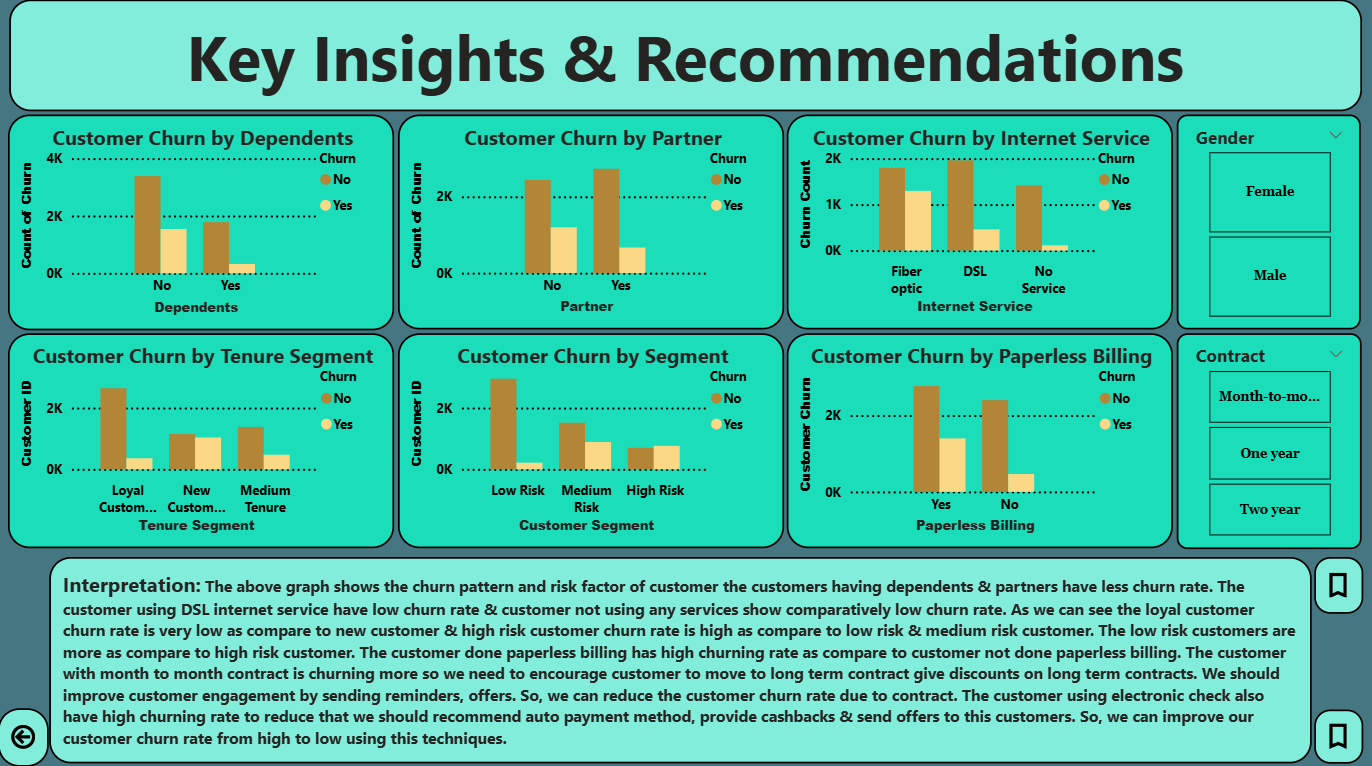

This screenshot's page, from the dashboard's own definition file:
{"tool":"powerbi","page":{"name":"Summary","canvas":[1280,720],"ordinal":2},"visuals":[{"type":"clusteredColumnChart","title":"Customer Churn by Dependents","fields":{"Category":["WA_Fn-UseC_-Telco-Customer-Churn.Dependents"],"Y":["CountNonNull(WA_Fn-UseC_-Telco-Customer-Churn.Churn)"],"Series":["WA_Fn-UseC_-Telco-Customer-Churn.Churn"]},"box":[9.6,114.1,359,200.5],"z":0},{"type":"clusteredColumnChart","title":"Customer Churn by Partner","fields":{"Category":["WA_Fn-UseC_-Telco-Customer-Churn.Partner"],"Y":["CountNonNull(WA_Fn-UseC_-Telco-Customer-Churn.Churn)"],"Series":["WA_Fn-UseC_-Telco-Customer-Churn.Churn"]},"box":[371.9,113.9,359.5,200.3],"z":1000},{"type":"actionButton","box":[1224.8,667.6,45.6,50.4],"z":1000},{"type":"textbox","box":[10,7.1,1258.6,104.1],"z":2000},{"type":"clusteredColumnChart","title":"Customer Churn by Internet Service","fields":{"Category":["WA_Fn-UseC_-Telco-Customer-Churn.InternetService"],"Y":["CountNonNull(WA_Fn-UseC_-Telco-Customer-Churn.Churn)"],"Series":["WA_Fn-UseC_-Telco-Customer-Churn.Churn"]},"box":[734.1,113.9,359,200.3],"z":3000},{"type":"clusteredColumnChart","title":"Customer Churn by Tenure Segment","fields":{"Category":["WA_Fn-UseC_-Telco-Customer-Churn.Tenure Segment"],"Series":["WA_Fn-UseC_-Telco-Customer-Churn.Churn"],"Y":["CountNonNull(WA_Fn-UseC_-Telco-Customer-Churn.customerID)"]},"box":[9.6,317,359.5,200.3],"z":4000},{"type":"clusteredColumnChart","title":"Customer Churn by Segment","fields":{"Category":["WA_Fn-UseC_-Telco-Customer-Churn.Customer Segment"],"Series":["WA_Fn-UseC_-Telco-Customer-Churn.Churn"],"Y":["CountNonNull(WA_Fn-UseC_-Telco-Customer-Churn.customerID)"]},"box":[371.9,317,359.5,200.3],"z":5000},{"type":"clusteredColumnChart","title":"Customer Churn by Paperless Billing","fields":{"Category":["WA_Fn-UseC_-Telco-Customer-Churn.PaperlessBilling"],"Y":["CountNonNull(WA_Fn-UseC_-Telco-Customer-Churn.Churn)"],"Series":["WA_Fn-UseC_-Telco-Customer-Churn.Churn"]},"box":[734.1,317,359.5,200.3],"z":6000},{"type":"slicer","fields":{"Values":["WA_Fn-UseC_-Telco-Customer-Churn.gender"]},"box":[1096.4,113.9,171.5,200.3],"z":7000},{"type":"slicer","fields":{"Values":["WA_Fn-UseC_-Telco-Customer-Churn.Contract"]},"box":[1096.3,317,171.7,200.5],"z":8000},{"type":"actionButton","box":[1224.8,525.9,45.6,52.8],"z":10000},{"type":"textbox","box":[48,525.9,1174.3,192.1],"z":12000},{"type":"actionButton","box":[0,666.4,46.8,54],"z":12001}]}

Visuals, with their boxes in screenshot pixels (x1, y1, x2, y2), scaled from the page's 1280x720 canvas onto the 1372x766 screenshot:
"Customer Churn by Dependents" clusteredColumnChart: box(10, 121, 395, 335)
"Customer Churn by Partner" clusteredColumnChart: box(399, 121, 784, 334)
actionButton: box(1313, 710, 1362, 764)
textbox: box(11, 8, 1360, 118)
"Customer Churn by Internet Service" clusteredColumnChart: box(787, 121, 1172, 334)
"Customer Churn by Tenure Segment" clusteredColumnChart: box(10, 337, 396, 550)
"Customer Churn by Segment" clusteredColumnChart: box(399, 337, 784, 550)
"Customer Churn by Paperless Billing" clusteredColumnChart: box(787, 337, 1172, 550)
slicer - WA_Fn-UseC_-Telco-Customer-Churn.gender: box(1175, 121, 1359, 334)
slicer - WA_Fn-UseC_-Telco-Customer-Churn.Contract: box(1175, 337, 1359, 551)
actionButton: box(1313, 559, 1362, 616)
textbox: box(51, 559, 1310, 764)
actionButton: box(0, 709, 50, 765)
